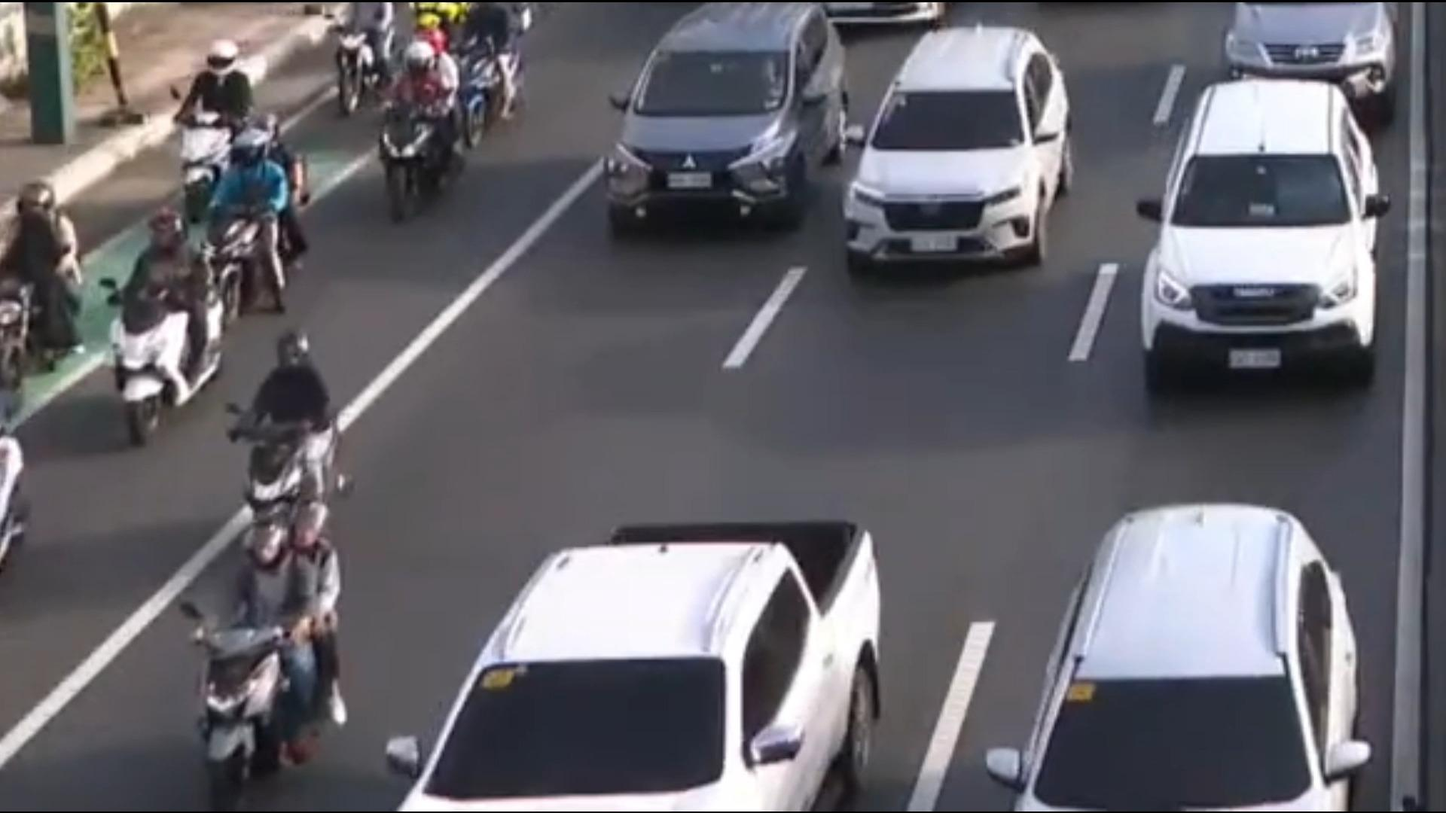Motorcycle: (184, 499, 341, 813), (114, 209, 222, 453), (227, 331, 348, 523), (207, 117, 311, 326), (0, 183, 81, 421), (384, 28, 463, 221), (170, 34, 250, 213), (457, 0, 537, 140)
Pickup: (389, 508, 887, 813)
SUV: (982, 499, 1365, 813), (1132, 71, 1400, 388), (601, 0, 836, 260), (843, 30, 1075, 274)
